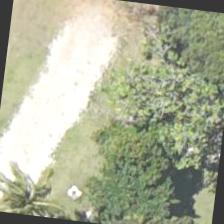Kelapa_Sawit: (0, 149, 79, 221)
